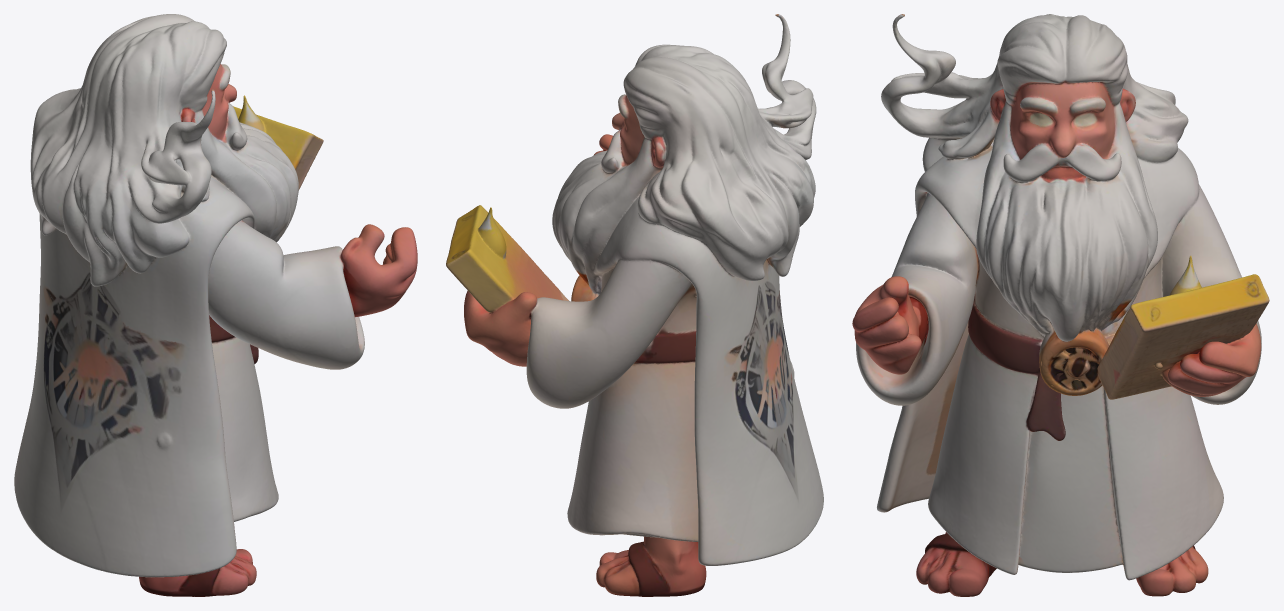
Rendered from prophet.glb.
3 views of the same model, side by side, from view 1: azimuth 30°, elevation 25°; view 2: azimuth 150°, elevation 25°; view 3: azimuth 270°, elevation 25° (orthographic). The views are drawn at different scales.
Visible parts, largest first — view 1: tripo_node_606da311-19da-4277-8627-8048bf47f082; view 2: tripo_node_606da311-19da-4277-8627-8048bf47f082; view 3: tripo_node_606da311-19da-4277-8627-8048bf47f082.
Part boxes in pixels (<box>): tripo_node_606da311-19da-4277-8627-8048bf47f082: <box>14,14,417,596</box>; tripo_node_606da311-19da-4277-8627-8048bf47f082: <box>446,14,823,596</box>; tripo_node_606da311-19da-4277-8627-8048bf47f082: <box>852,14,1269,596</box>.
Bounding box in the file's own units: 0.635 × 1 × 0.678.
Materials: 1 (1 with a texture image).
